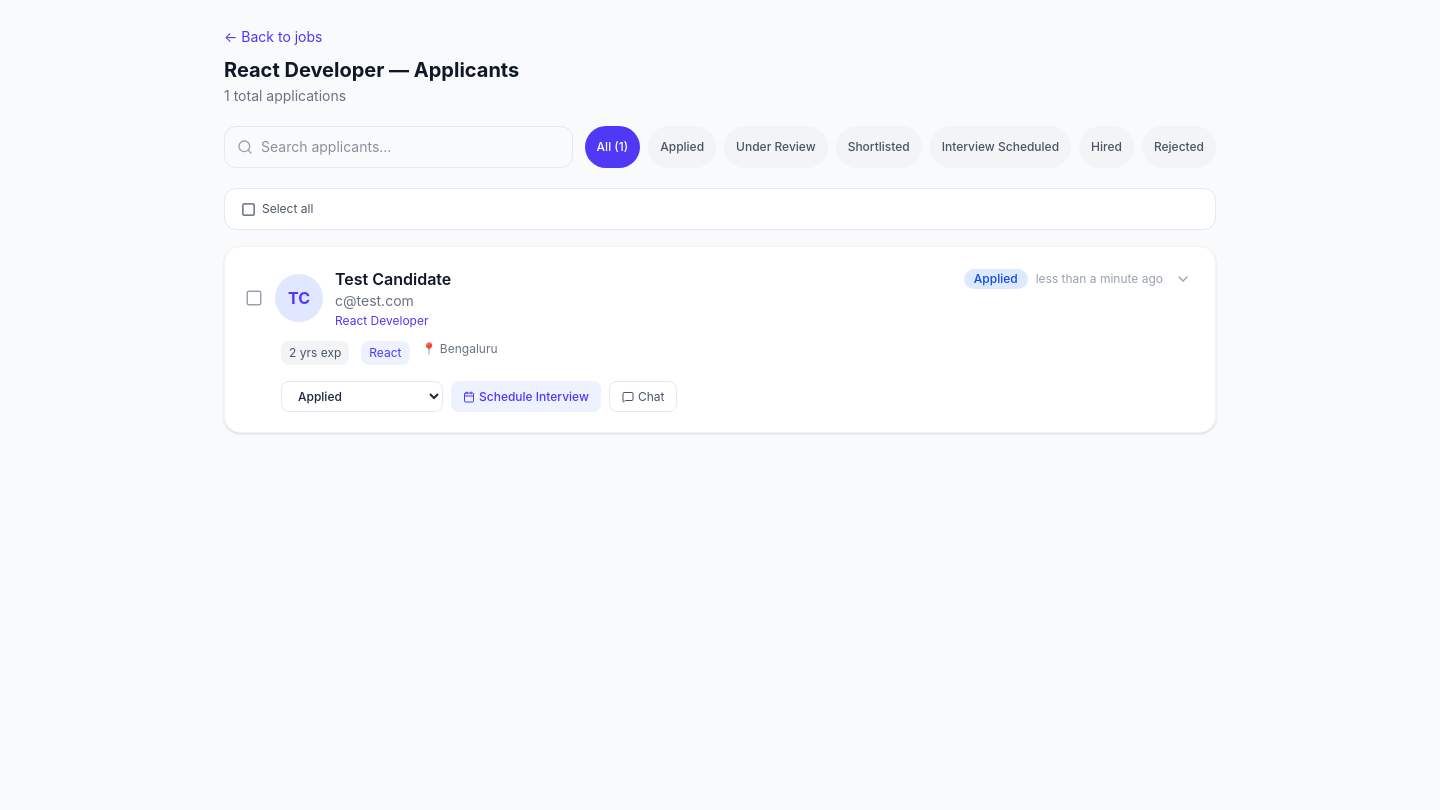
Test: Applicants — interview modal › opens interview modal when Schedule Interview is clicked
The width and height of the screenshot is (1440, 810).
What coordinates should you click on to do the following:
click the button "Schedule Interview"
I would click on:
 (526, 396)
Its box is [451,381,601,412].
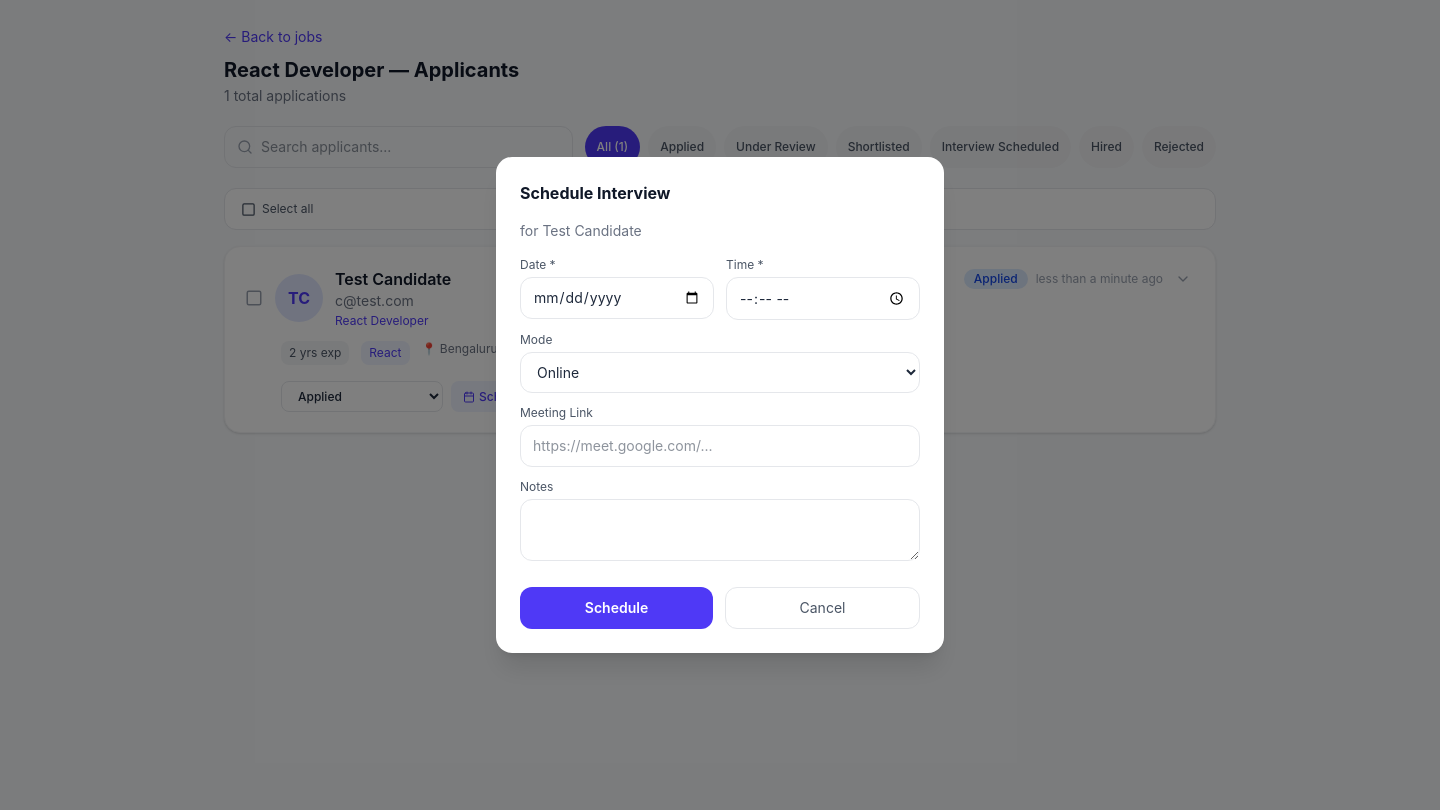
expect the text "for Test Candidate" is shown: met, box [520,222,642,239]
